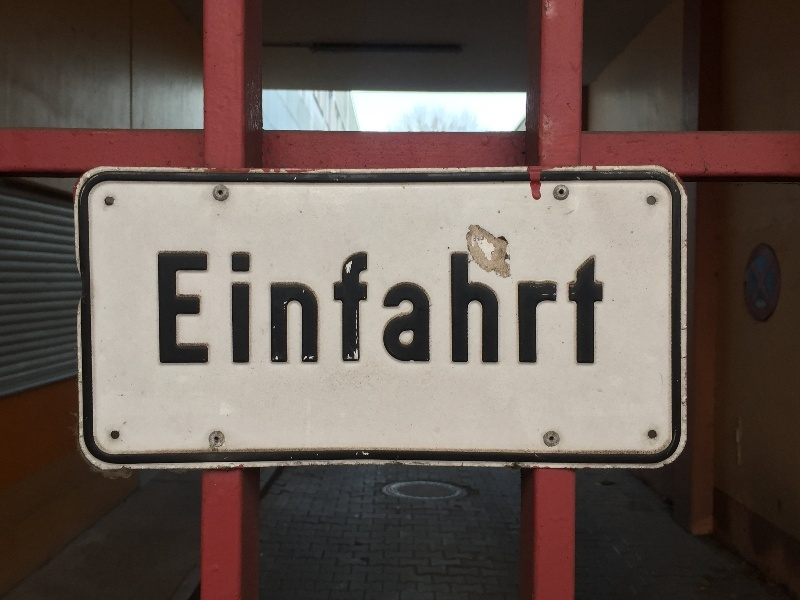text: (161, 253, 176, 366), (177, 253, 192, 366), (193, 253, 208, 366), (209, 253, 224, 366), (225, 253, 240, 366), (241, 253, 256, 366), (257, 253, 272, 366), (273, 253, 288, 366), (289, 253, 304, 366), (305, 253, 320, 366), (321, 253, 336, 366), (337, 253, 352, 366), (353, 253, 368, 366), (369, 253, 384, 366), (385, 253, 400, 366), (401, 253, 416, 366), (417, 253, 432, 366), (433, 253, 448, 366), (449, 253, 464, 366), (465, 253, 480, 366), (481, 253, 496, 366), (497, 253, 512, 366), (513, 253, 528, 366), (529, 253, 544, 366), (545, 253, 560, 366), (561, 253, 576, 366), (577, 253, 592, 366), (593, 253, 604, 366), (158, 253, 160, 366)
